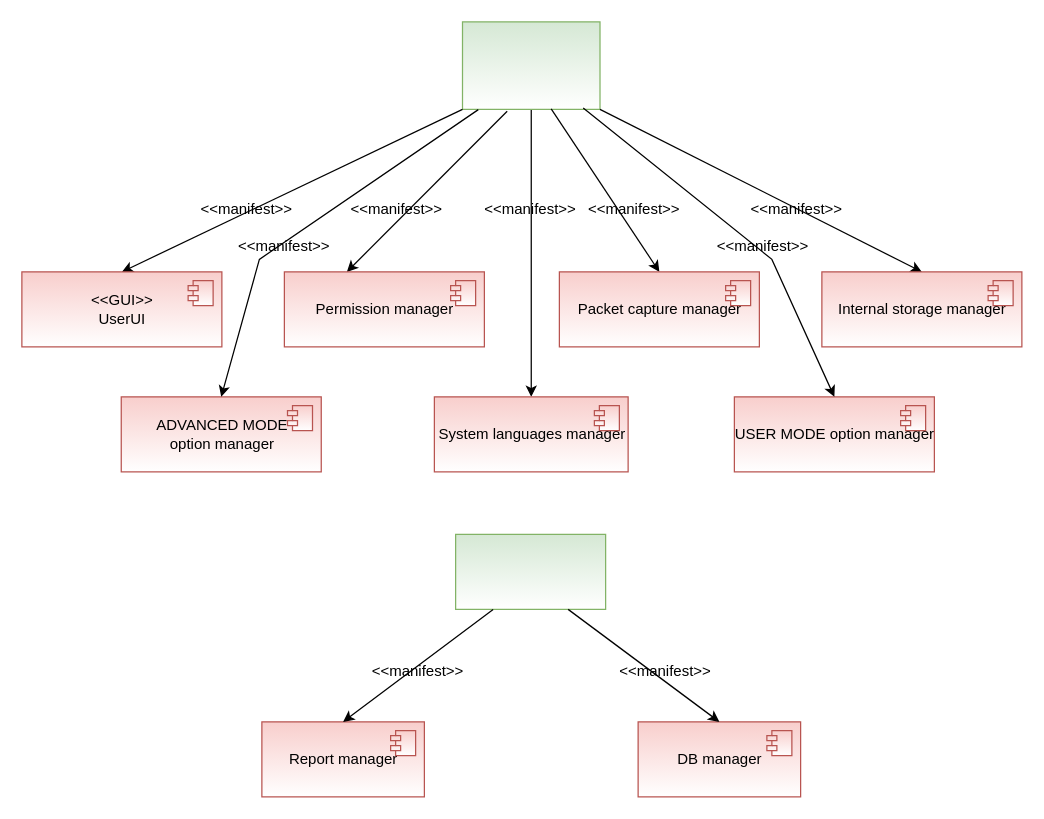
This 1044x819 diagram has some shape labels left out. Each missing label, with the centre of its shape:
<<application>> CyberWall: point (530, 65)
<<appServer>> Firebase: point (530, 571)
